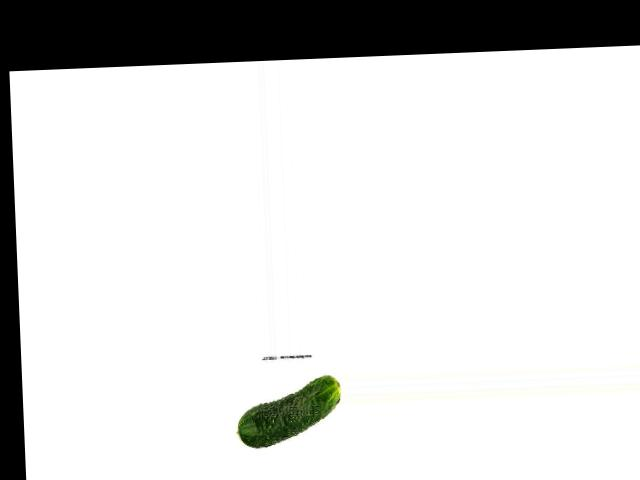cucumber: (234, 374, 342, 448)
